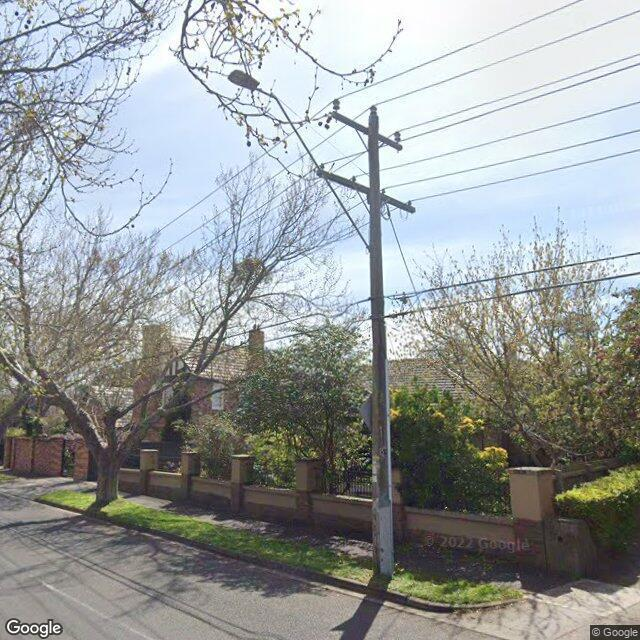HV-transmission: (329, 98, 404, 152)
crossarm: (316, 168, 417, 214), (330, 111, 402, 152)
streetlight: (227, 69, 370, 252)
timber-pole: (369, 102, 393, 575)
